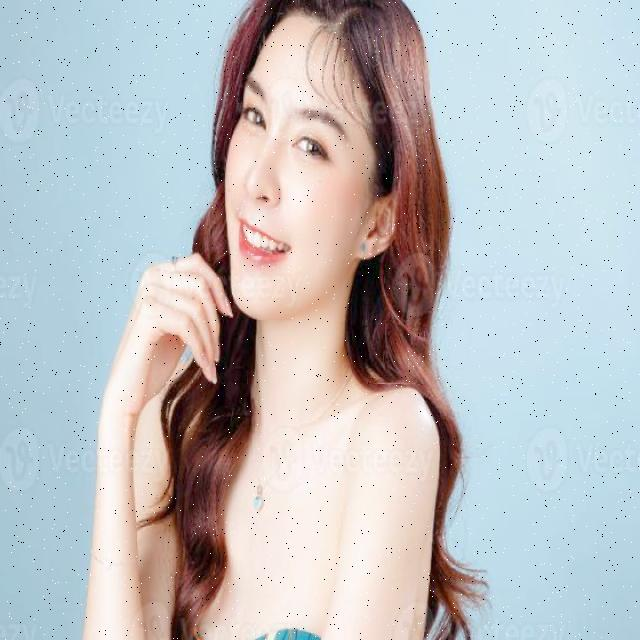puffy_eyes: (240, 125, 263, 142), (291, 157, 334, 166)
